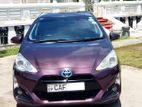car: (11, 11, 121, 107)
